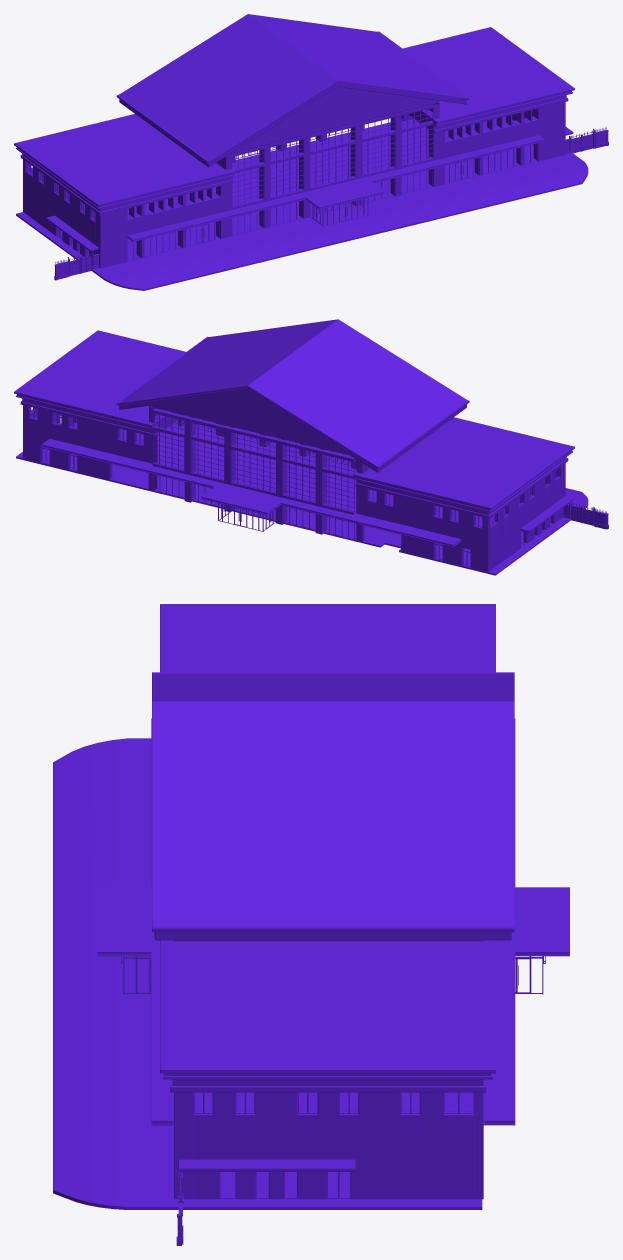
The model's file is MAYA_场景高模.fbx.
3 renders of one model, top to bottom at view 1: azimuth 30°, elevation 25°; view 2: azimuth 150°, elevation 25°; view 3: azimuth 270°, elevation 25°, orthographic. The views are drawn at different scales.
Visible parts, largest first — view 1: MOXING_5:MOXING_4:MOXING:polySurface186; view 2: MOXING_5:MOXING_4:MOXING:polySurface186; view 3: MOXING_5:MOXING_4:MOXING:polySurface186.
Part boxes in pixels (<box>): MOXING_5:MOXING_4:MOXING:polySurface186: <box>14,14,608,290</box>; MOXING_5:MOXING_4:MOXING:polySurface186: <box>14,319,608,575</box>; MOXING_5:MOXING_4:MOXING:polySurface186: <box>53,604,569,1245</box>.
Bounding box in the file's own units: 9616 × 2310 × 3890.
